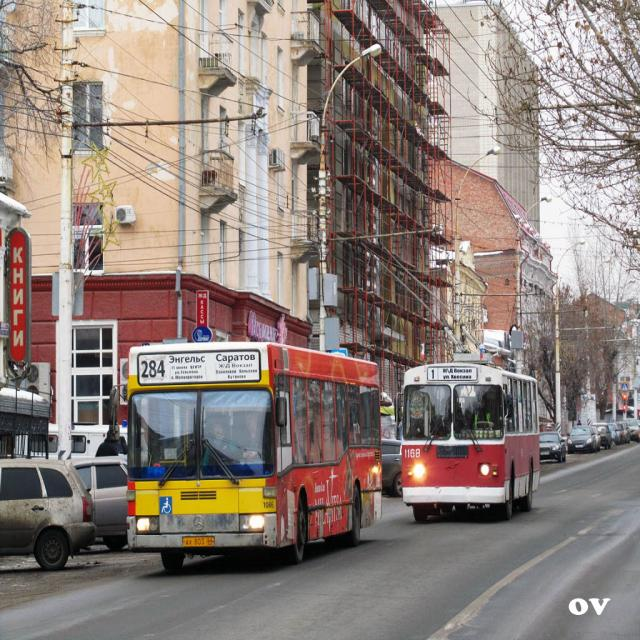number-of-bus: (138, 352, 169, 386)
